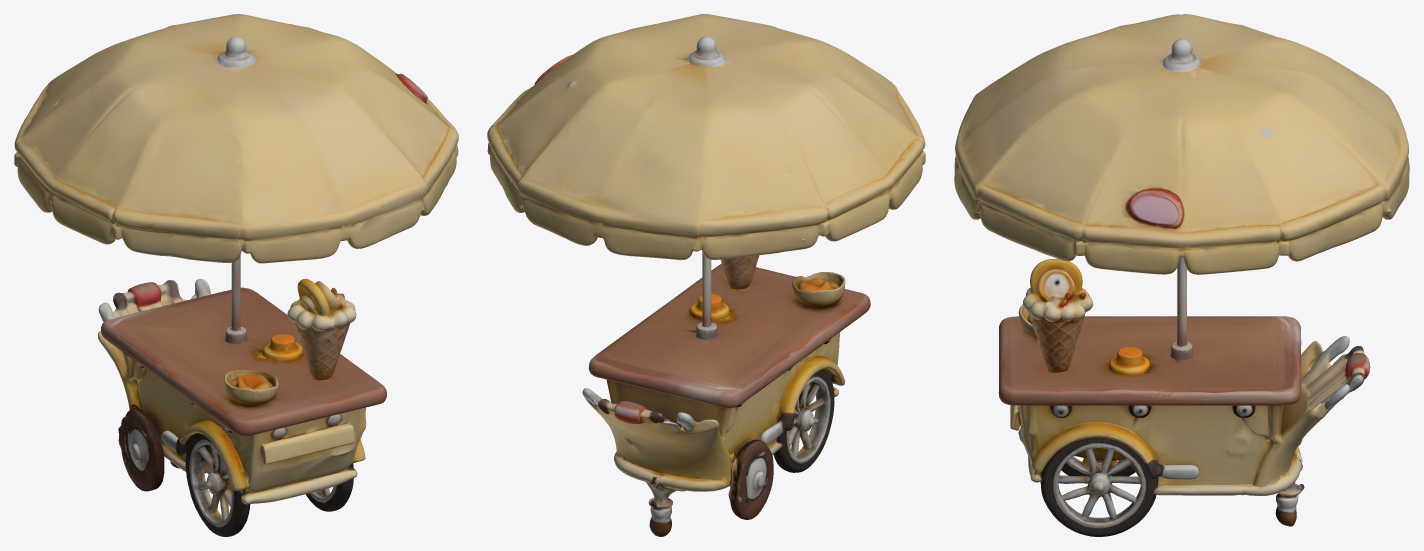
File: plaza-icecream-cart.glb
3 renders of one model, left to right at view 1: azimuth 30°, elevation 25°; view 2: azimuth 150°, elevation 25°; view 3: azimuth 270°, elevation 25°, orthographic. The views are drawn at different scales.
Visible parts, largest first — view 1: tripo_node_26f337ca-d9c8-416e-a406-aa1be2bdec92; view 2: tripo_node_26f337ca-d9c8-416e-a406-aa1be2bdec92; view 3: tripo_node_26f337ca-d9c8-416e-a406-aa1be2bdec92.
Boxes of the visible parts, bbox=[...] form: tripo_node_26f337ca-d9c8-416e-a406-aa1be2bdec92: bbox=[14, 14, 458, 536]; tripo_node_26f337ca-d9c8-416e-a406-aa1be2bdec92: bbox=[487, 14, 925, 536]; tripo_node_26f337ca-d9c8-416e-a406-aa1be2bdec92: bbox=[954, 14, 1409, 536].
Size of the model in its own units: 1.69 by 2 by 1.69.
Materials: 1 (1 with a texture image).
